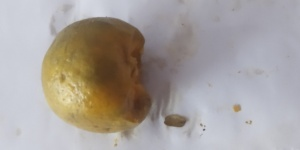BAD: (41, 15, 150, 132)
